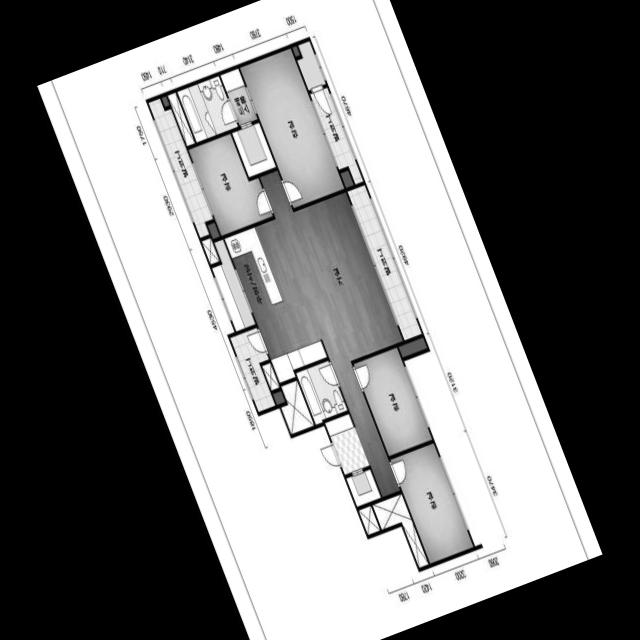background: (37, 0, 603, 640)
space_balconi: (347, 184, 422, 340), (148, 98, 213, 237), (310, 87, 363, 184), (230, 327, 275, 411)
space_bedroom: (240, 48, 344, 207), (390, 443, 473, 563), (188, 133, 273, 235), (353, 347, 432, 456)
space_dressroom: (220, 68, 276, 177)
space_front: (325, 413, 381, 506)
space_kitchen: (224, 219, 327, 382)
space_living_room: (260, 170, 403, 496), (212, 239, 255, 331)
space_other: (372, 493, 428, 567), (281, 379, 314, 434), (167, 92, 195, 146), (297, 40, 326, 90), (359, 505, 380, 535), (399, 337, 427, 357), (201, 237, 220, 264), (262, 362, 280, 390), (340, 170, 354, 187), (208, 222, 220, 238), (273, 390, 285, 404), (292, 45, 300, 56), (162, 96, 169, 106)
space_toilet: (177, 75, 238, 142), (296, 360, 347, 424)
